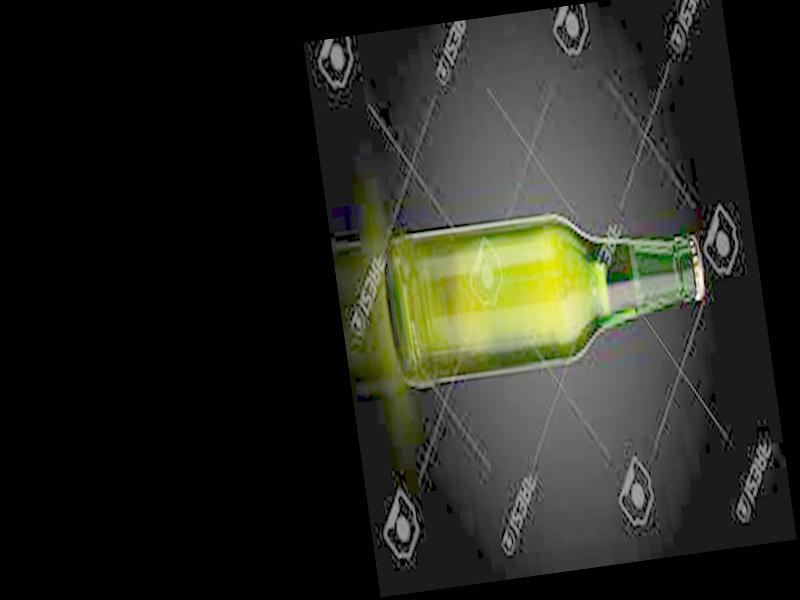Beer: (380, 192, 713, 383)
